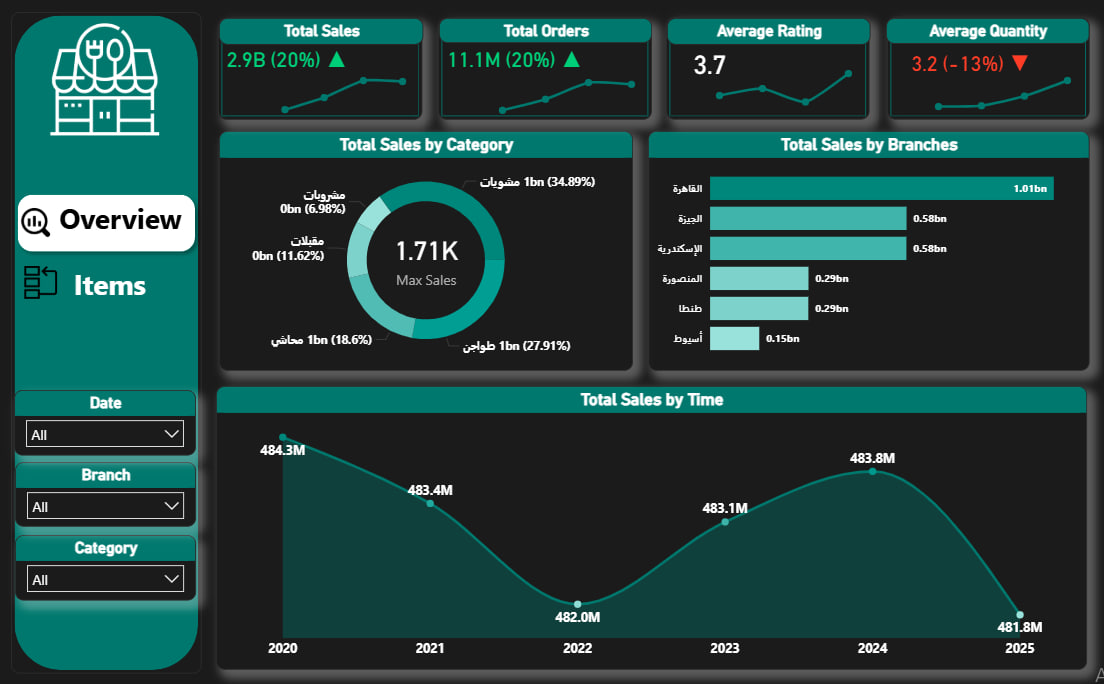

What the dashboard file says about the page in this screenshot:
{"tool":"powerbi","page":{"name":"Executive Overview","canvas":[1280,800],"ordinal":0},"visuals":[{"type":"areaChart","title":"Total Sales by Time","fields":{"Category":["restaurant_dates.year Hierarchy.year","restaurant_dates.year Hierarchy.Quarter Name","restaurant_dates.year Hierarchy.month_name","restaurant_dates.year Hierarchy.day_name"],"Y":["#Measures.Total Sales"]},"box":[250.8,450.2,1009.6,329.3],"z":0},{"type":"clusteredBarChart","title":"Total Sales by Branches","fields":{"Category":["all_restaurants.branch"],"Y":["#Measures.Total Sales"]},"box":[751.1,154.3,511.9,277.8],"z":1000},{"type":"donutChart","title":"Total Sales by Category","fields":{"Category":["all_restaurants.category"],"Y":["#Measures.Total Sales"]},"box":[253.4,154.3,479.7,277.8],"z":2000},{"type":"card","fields":{"Values":["Max(all_restaurants.total_amount)"]},"box":[433.4,261.1,120.9,82.3],"z":3000},{"type":"shape","box":[12.7,16.5,221,767],"z":4000},{"type":"slicer","title":"Category","fields":{"Values":["all_restaurants.category"]},"box":[17.8,622.2,209.5,76.2],"z":5000},{"type":"slicer","title":"Branch","fields":{"Values":["all_restaurants.branch"]},"box":[17.8,538.4,209.5,74.9],"z":6000},{"type":"shape","box":[11.4,219.7,223.5,83.8],"z":7000},{"type":"slicer","title":"Date","fields":{"Values":["restaurant_dates.date_column.Variation.Date Hierarchy.Year"]},"box":[16.5,454.6,210.8,76.2],"z":8000},{"type":"textbox","box":[47,227.3,184.1,66],"z":9000},{"type":"image","box":[17.8,233.7,48.3,52.1],"z":10000},{"type":"image","box":[22.9,303.5,48.3,52.1],"z":11000},{"type":"textbox","box":[71.1,303.5,113,57.1],"z":12000},{"type":"image","box":[47,24.1,147.3,139.7],"z":13000},{"type":"shape","box":[1028.2,22.3,234.8,119.3],"z":14000},{"type":"shape","box":[253.1,23.6,237.4,118],"z":15000},{"type":"shape","box":[507.5,23.6,247.9,118],"z":16000},{"type":"shape","box":[772.5,22.3,236.1,119.3],"z":17000},{"type":"card","title":"Average Rating","fields":{"Values":["#Measures.Average Rating"]},"box":[773,22.9,235.7,31.3],"z":18000},{"type":"lineChart","title":"Average Rating","fields":{"Y":["#Measures.Average Rating"],"Category":["restaurant_dates.quarter"]},"box":[809.2,66.9,199.3,68.2],"z":19000},{"type":"card","title":"Average Rating","fields":{"Values":["#Measures.Average Rating"]},"box":[781.6,53.8,82.6,44.6],"z":20000},{"type":"card","title":"Total Orders","fields":{"Values":["#Measures.Average Rating"]},"box":[509,22.9,247.4,28.6],"z":21000},{"type":"lineChart","title":"Average Rating","fields":{"Category":["restaurant_dates.quarter"],"Y":["#Measures.Total Orders"]},"box":[557.2,79.8,199.4,62.2],"z":22000},{"type":"card","title":"Total Sales","fields":{"Values":["#Measures.Average Rating"]},"box":[253.7,22.9,237,31.3],"z":23000},{"type":"card","title":"Average Quantity","fields":{"Values":["#Measures.Average Rating"]},"box":[1027.2,22.9,235.7,29.9],"z":24000},{"type":"lineChart","title":"Average Rating","fields":{"Category":["restaurant_dates.quarter"],"Y":["#Measures.Average Qty"]},"box":[1063.6,70.8,199.3,70.8],"z":25000},{"type":"lineChart","title":"Average Rating","fields":{"Y":["#Measures.Total Sales"],"Category":["restaurant_dates.quarter"]},"box":[307.4,77.2,182.6,64.3],"z":26000},{"type":"card","title":"Average Rating","fields":{"Values":["#Measures.Sales KPI"]},"box":[253.4,51.4,158.2,38.6],"z":27000},{"type":"card","title":"Average Rating","fields":{"Values":["#Measures.Qty KPI"]},"box":[1028.2,53.8,195.4,44.6],"z":28000},{"type":"card","title":"Average Rating","fields":{"Values":["#Measures.Orders KPI"]},"box":[509.3,52.7,176.2,37.3],"z":29000}]}

Visuals, with their boxes in screenshot pixels (x1, y1, x2, y2), scaled from the page's 1280x800 canvas onto the 1104x684 screenshot:
"Total Sales by Time" areaChart: 216/385/1087/666
"Total Sales by Branches" clusteredBarChart: 648/132/1089/369
"Total Sales by Category" donutChart: 219/132/632/369
card - Max(all_restaurants.total_amount): 374/223/478/294
shape: 11/14/202/670
"Category" slicer: 15/532/196/597
"Branch" slicer: 15/460/196/524
shape: 10/188/203/259
"Date" slicer: 14/389/196/454
textbox: 41/194/199/251
image: 15/200/57/244
image: 20/259/61/304
textbox: 61/259/159/308
image: 41/21/168/140
shape: 887/19/1089/121
shape: 218/20/423/121
shape: 438/20/652/121
shape: 666/19/870/121
"Average Rating" card: 667/20/870/46
"Average Rating" lineChart: 698/57/870/116
"Average Rating" card: 674/46/745/84
"Total Orders" card: 439/20/652/44
"Average Rating" lineChart: 481/68/653/121
"Total Sales" card: 219/20/423/46
"Average Quantity" card: 886/20/1089/45
"Average Rating" lineChart: 917/61/1089/121
"Average Rating" lineChart: 265/66/423/121
"Average Rating" card: 219/44/355/77
"Average Rating" card: 887/46/1055/84
"Average Rating" card: 439/45/591/77
